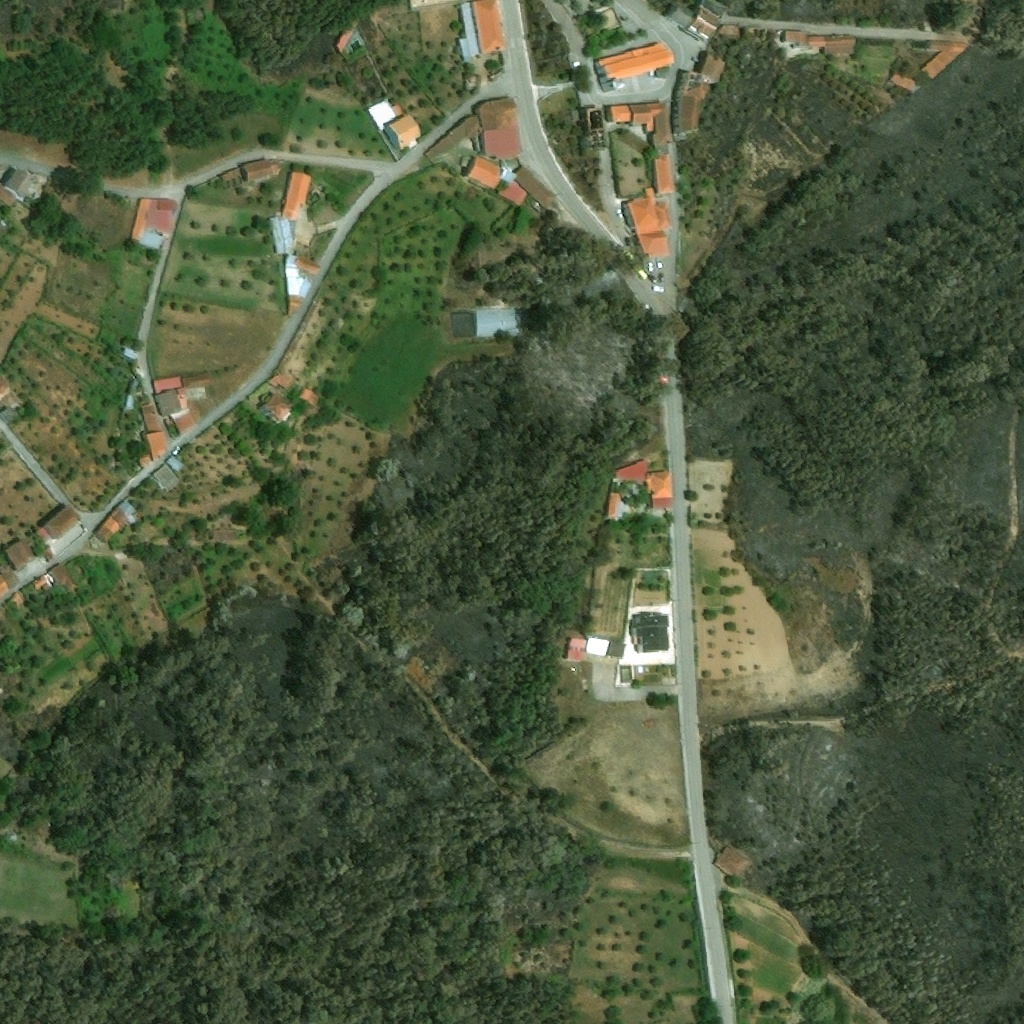0 no-damage: (423, 95, 524, 164), (618, 188, 673, 262), (602, 469, 673, 523), (268, 171, 312, 256), (594, 40, 675, 83), (454, 0, 505, 62), (664, 0, 730, 43), (131, 198, 179, 250), (670, 68, 701, 137), (93, 499, 136, 543), (606, 101, 666, 132), (628, 610, 670, 654), (920, 40, 967, 79), (514, 167, 555, 208), (474, 307, 523, 340), (684, 49, 727, 85), (712, 846, 753, 882), (383, 114, 422, 151), (0, 169, 32, 213), (464, 155, 503, 189), (41, 505, 78, 539), (808, 36, 858, 59), (651, 152, 676, 197), (260, 392, 295, 424), (1, 537, 34, 570), (240, 159, 282, 184), (284, 263, 312, 298), (153, 389, 187, 416), (497, 179, 527, 207), (367, 101, 395, 130), (152, 464, 180, 492), (50, 564, 78, 592), (175, 372, 212, 393), (0, 565, 21, 598), (146, 431, 168, 460), (332, 25, 354, 54), (140, 404, 162, 432), (298, 387, 324, 409), (296, 255, 322, 275), (566, 636, 587, 660), (779, 30, 807, 48), (655, 112, 669, 147), (152, 376, 182, 392), (174, 412, 196, 433), (889, 75, 917, 91), (587, 636, 609, 655), (217, 167, 241, 184), (267, 374, 292, 390), (166, 455, 187, 474), (31, 574, 54, 591), (607, 641, 626, 659), (0, 375, 10, 401), (123, 347, 139, 360), (139, 454, 153, 468), (123, 394, 133, 412), (43, 550, 56, 562)
3 destroyed: (578, 107, 606, 150)
4 un-classified: (410, 0, 470, 8), (0, 627, 6, 640)
